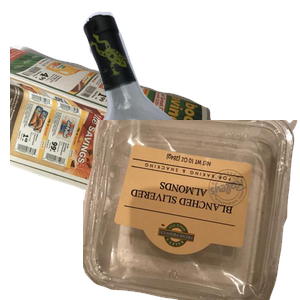glass: (81, 10, 300, 190)
paper: (10, 42, 224, 222)
plastic: (83, 120, 300, 300)
trash: (96, 181, 277, 300)
